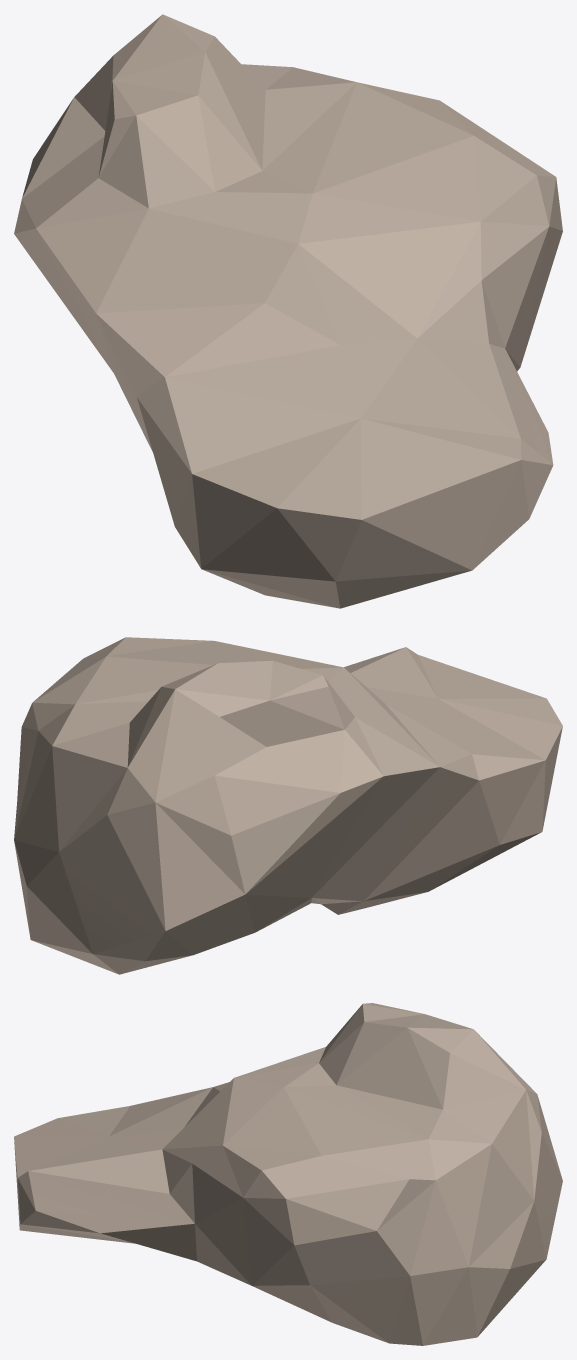
The model's file is LandscapeRock1.glb.
3 renders of one model, top to bottom at view 1: azimuth 30°, elevation 25°; view 2: azimuth 150°, elevation 25°; view 3: azimuth 270°, elevation 25°, orthographic. The views are drawn at different scales.
Parts seen in each view (by area): view 1: LandscapeRock1; view 2: LandscapeRock1; view 3: LandscapeRock1.
Part boxes in pixels (<box>): LandscapeRock1: <box>14,14,562,608</box>; LandscapeRock1: <box>14,637,562,974</box>; LandscapeRock1: <box>14,1003,562,1345</box>.
Bounding box in the file's own units: 2.56 × 1.83 × 3.63.
